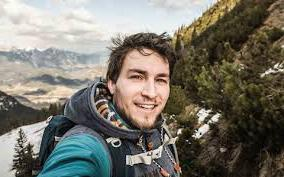face: (118, 49, 170, 129)
